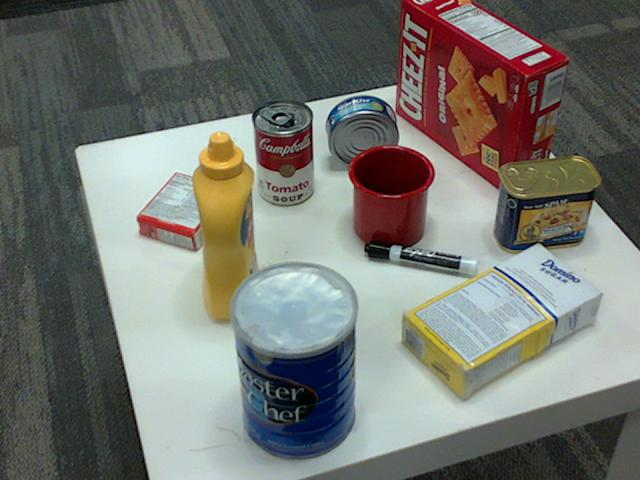cracker_box: (395, 0, 568, 193)
gelatin_box: (134, 169, 230, 248)
large_marker: (365, 241, 479, 280)
master_chef_can: (228, 264, 356, 462)
mug: (345, 143, 433, 248)
mustard_bottle: (189, 132, 259, 319)
potted_meat_can: (492, 157, 598, 254)
sugar_box: (398, 242, 599, 399)
tomato_soup_can: (251, 99, 313, 206)
tuna_fish_can: (324, 94, 397, 168)
